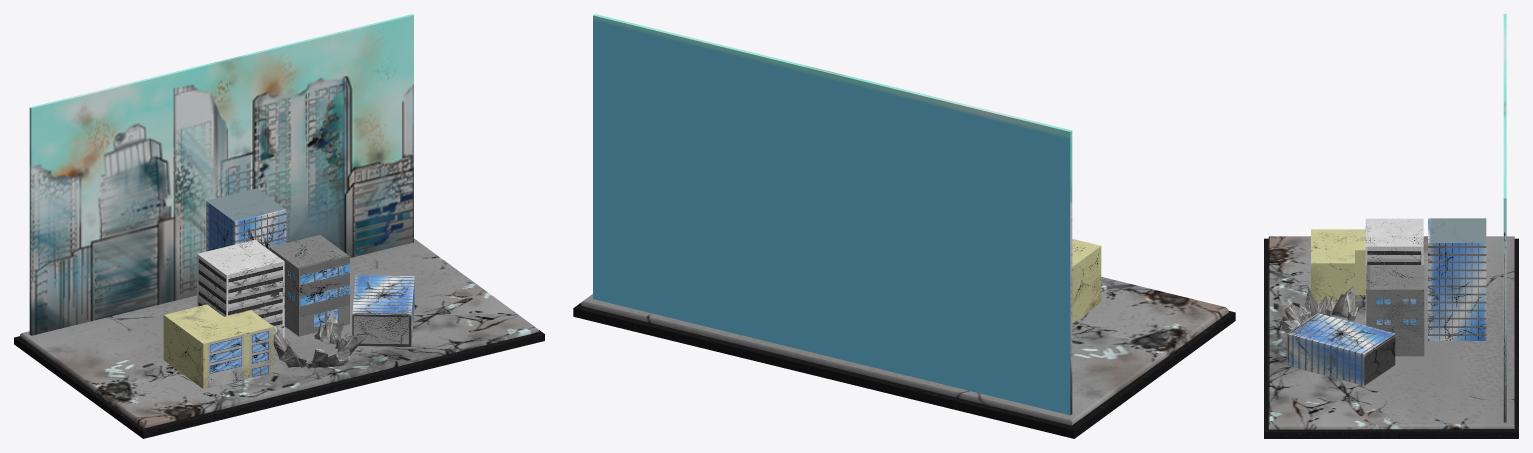
File: shelf2_0120.fbx
3 renders of one model, left to right at view 1: azimuth 30°, elevation 25°; view 2: azimuth 150°, elevation 25°; view 3: azimuth 270°, elevation 25°, orthographic. The views are drawn at different scales.
Parts seen in each view (by area): view 1: background, pCube17, building_4, building_2, pCube43, building_3, building_5, building_1, pedestal_circle; view 2: background, pCube17, pCube43, building_4; view 3: pCube17, building_1, building_5, building_3, pCube43, building_4, building_2, background, pCube50, pCube47.
Part boxes in pixels (x1,y1,x2,y2): background: (29,14,413,335); pCube17: (20,238,539,428); building_4: (163,304,273,388); building_2: (197,240,284,338); pCube43: (14,330,544,438); building_3: (269,235,349,336); building_5: (352,275,414,347); building_1: (206,188,286,251); pedestal_circle: (289,337,338,361); background: (593,14,1072,415); pCube17: (580,277,1228,425); pCube43: (573,303,1235,438); building_4: (1072,239,1101,323); pCube17: (1268,236,1514,429); building_1: (1428,218,1486,340); building_5: (1287,313,1395,385); building_3: (1366,265,1424,356); pCube43: (1264,238,1518,438); building_4: (1311,229,1365,307); building_2: (1365,218,1423,324); background: (1503,14,1506,422); pCube50: (1332,284,1355,318); pCube47: (1279,296,1302,323).
Bounding box in the file's own units: 61.99 × 35.3 × 34.54.
1 material, 1 textured.
